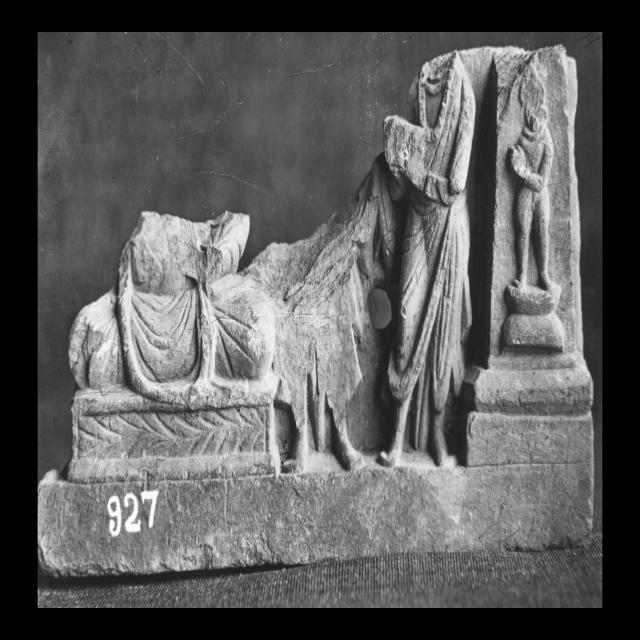buddha-sitting: (68, 212, 279, 482)
